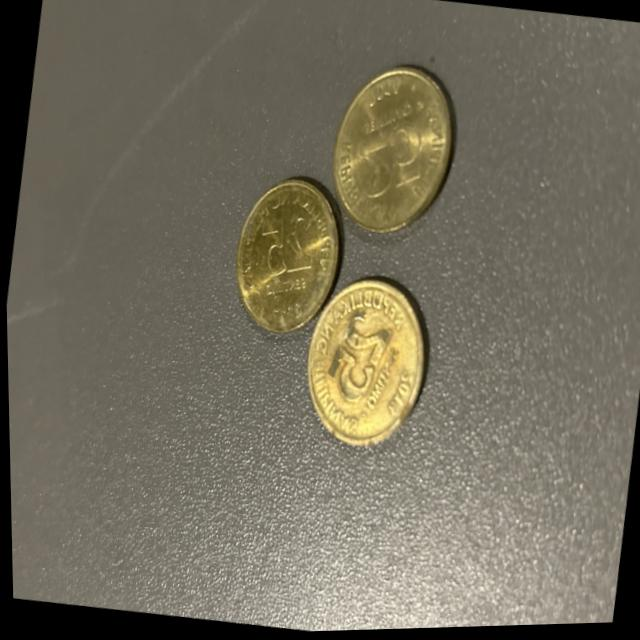25Cent_Old_Front: (296, 276, 432, 449), (222, 171, 352, 338)
